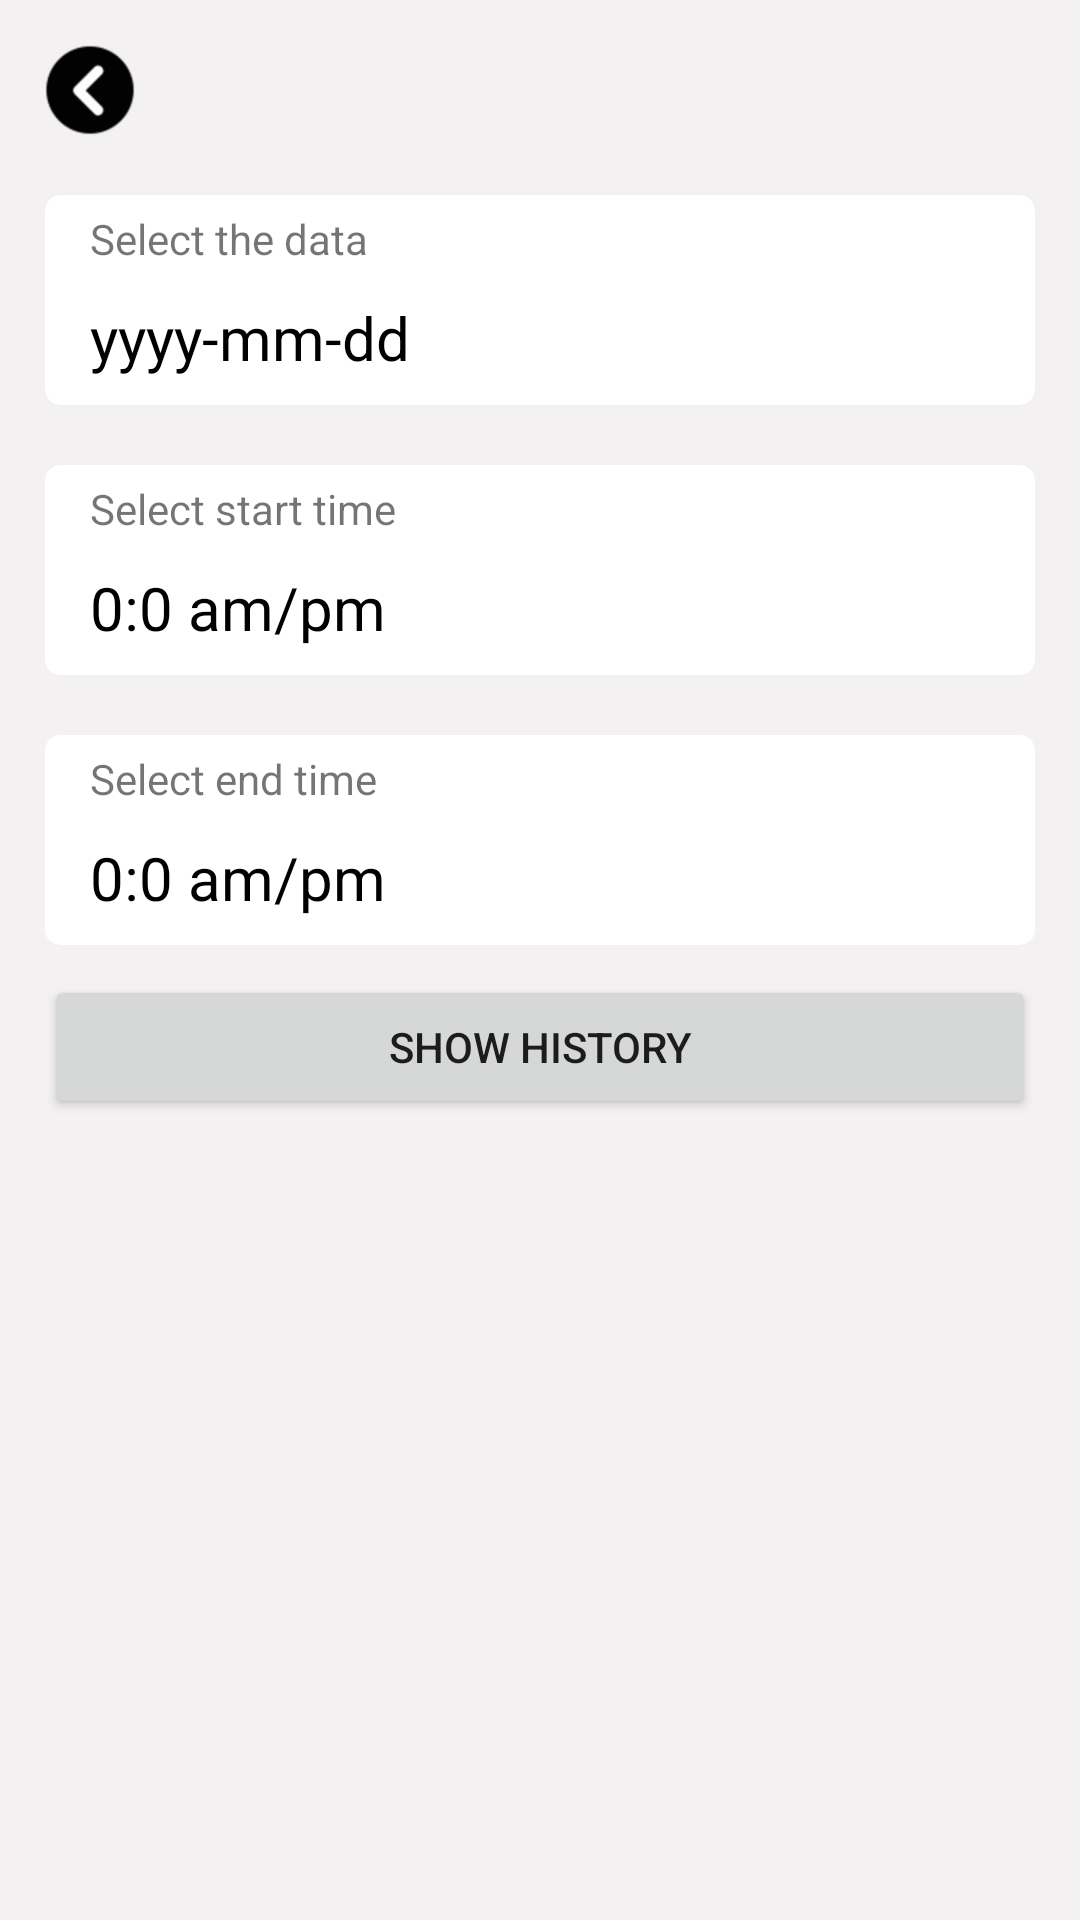

Icon bounding boxes for this 1080x1920 phone screenshot, format (x1, y1, x2, y2):
back: (46, 46, 134, 134)
